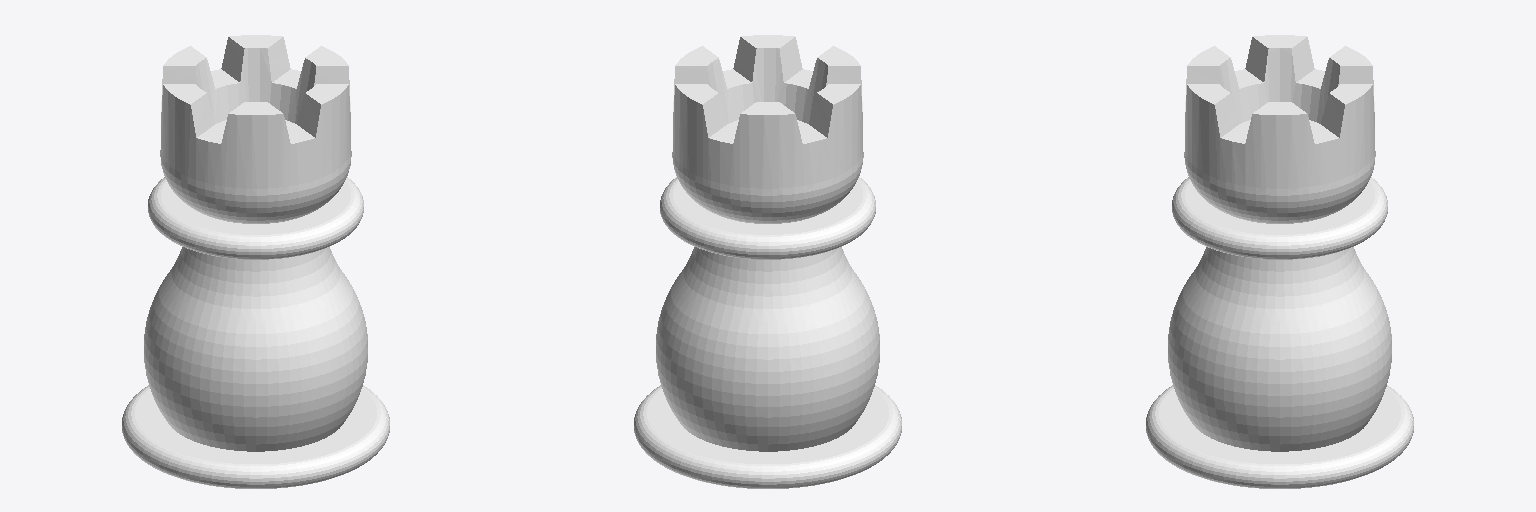
Rendered from secg_prob1.obj.
3 renders of one model, left to right at view 1: azimuth 30°, elevation 25°; view 2: azimuth 150°, elevation 25°; view 3: azimuth 270°, elevation 25°, orthographic.
Parts seen in each view (by area): view 1: SecG_Prob1; view 2: SecG_Prob1; view 3: SecG_Prob1.
Part boxes in pixels (left/top/right/bottom): SecG_Prob1: left=122, top=35, right=389, bottom=488; SecG_Prob1: left=634, top=35, right=901, bottom=488; SecG_Prob1: left=1146, top=35, right=1413, bottom=488.
Size of the model in its own units: 0.031 by 0.046 by 0.031.